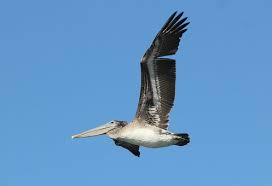pelican: (78, 17, 189, 154)
